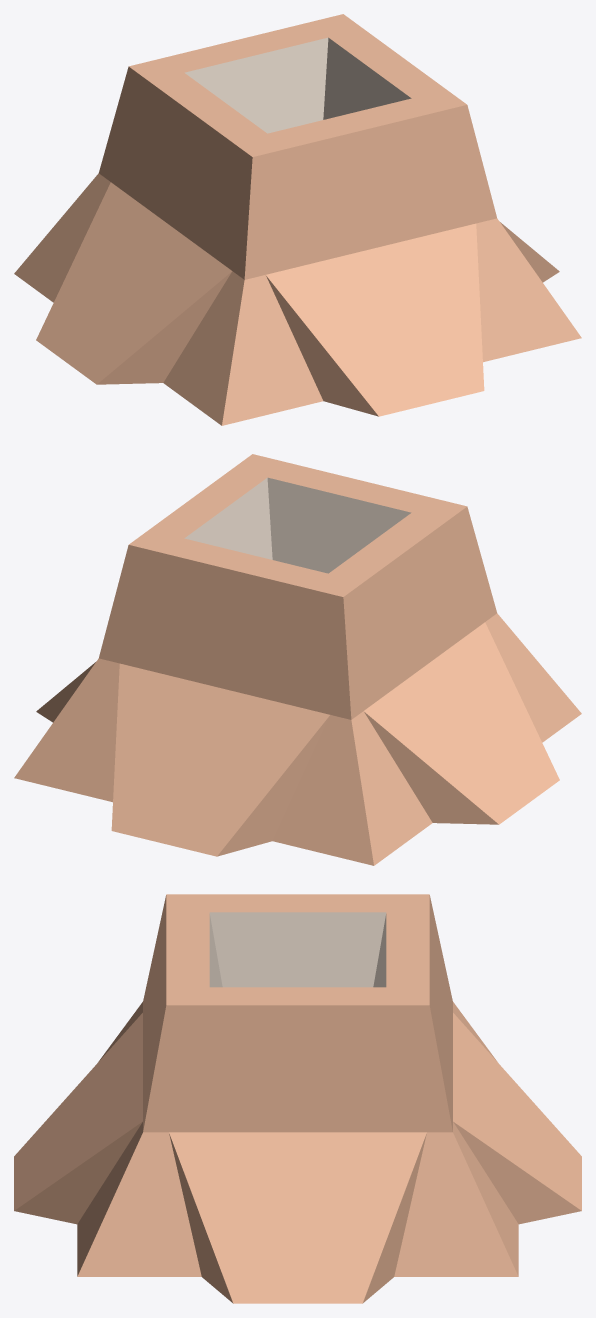
The model's file is stump_squareDetailed.glb.
3 views of the same model, one above another, from view 1: azimuth 30°, elevation 25°; view 2: azimuth 150°, elevation 25°; view 3: azimuth 270°, elevation 25° (orthographic). The views are drawn at different scales.
Parts seen in each view (by area): view 1: stump_squareDetailed; view 2: stump_squareDetailed; view 3: stump_squareDetailed.
Boxes of the visible parts, x1=… form: stump_squareDetailed: x1=14, y1=14, x2=581, y2=425; stump_squareDetailed: x1=14, y1=454, x2=581, y2=865; stump_squareDetailed: x1=14, y1=894, x2=581, y2=1303.
Size of the model in its own units: 0.44 by 0.2 by 0.44.
